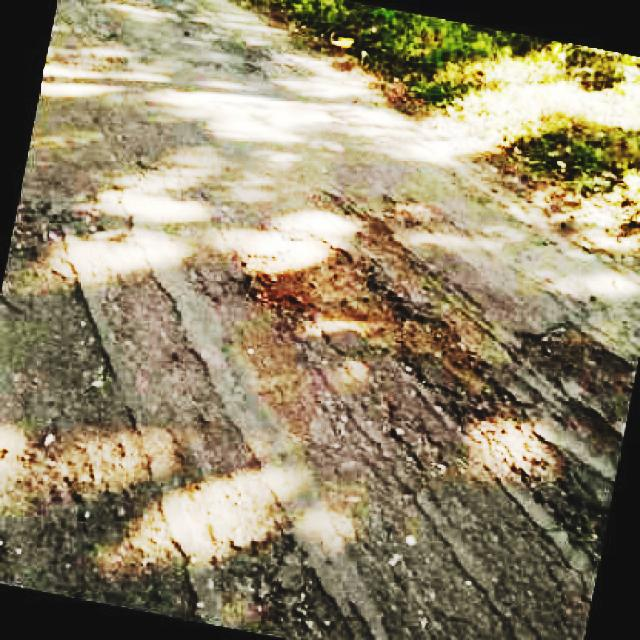pothole: (244, 218, 514, 422), (515, 308, 640, 442)
